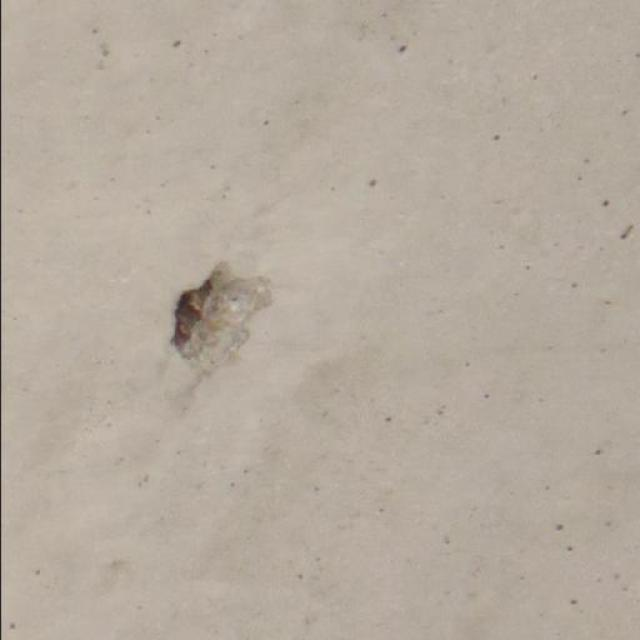D10: (169, 260, 270, 365)
